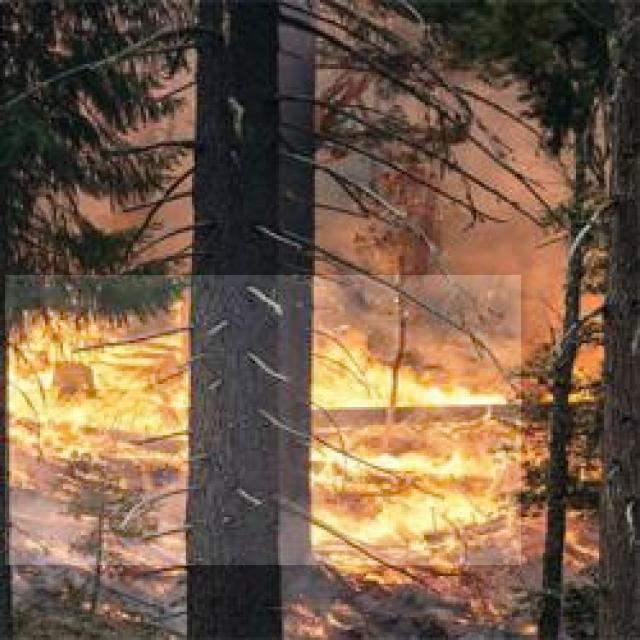Fire: (6, 275, 522, 565)
